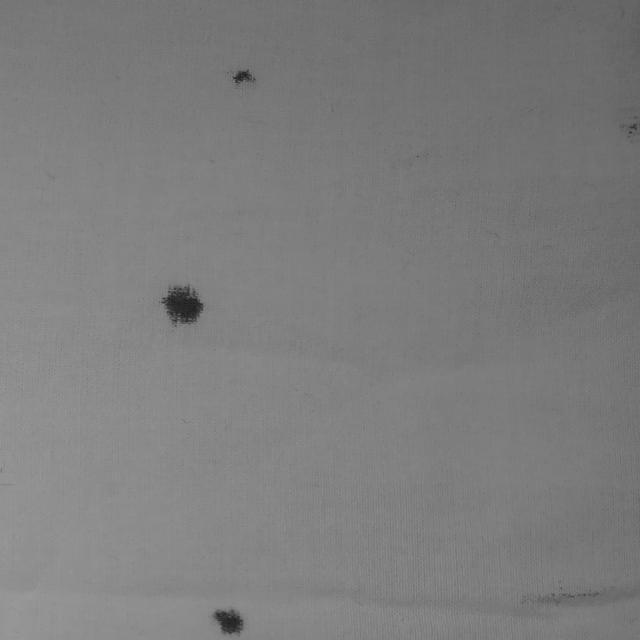Stain: (160, 285, 203, 324), (618, 105, 640, 144), (212, 610, 243, 635), (232, 69, 255, 85)
